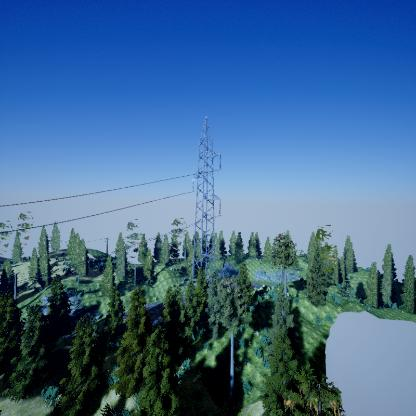tower: (190, 116, 224, 297)
